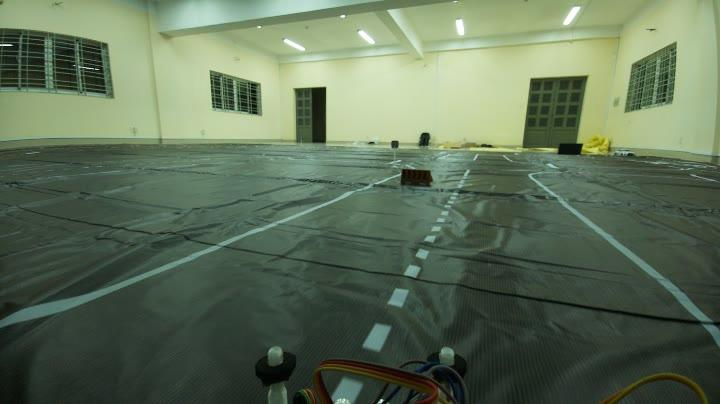roadblock: (396, 164, 441, 194)
